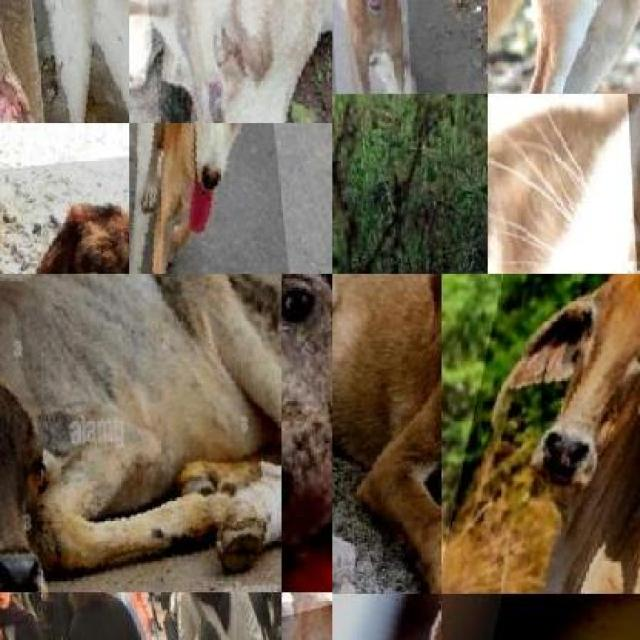cat: (487, 94, 640, 274)
cow: (0, 274, 282, 592), (441, 274, 640, 594), (130, 0, 332, 123)
dog: (332, 274, 442, 594), (129, 123, 302, 274), (0, 135, 129, 274), (282, 274, 332, 592), (332, 0, 412, 94)
